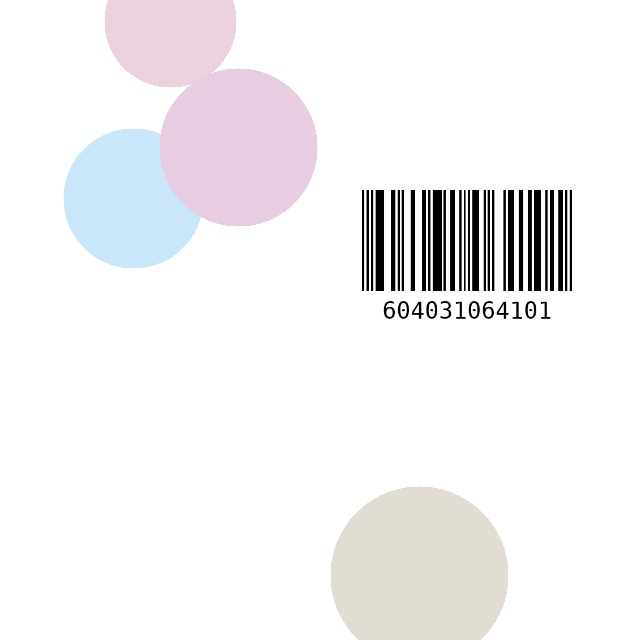barcode: (319, 184, 615, 342)
